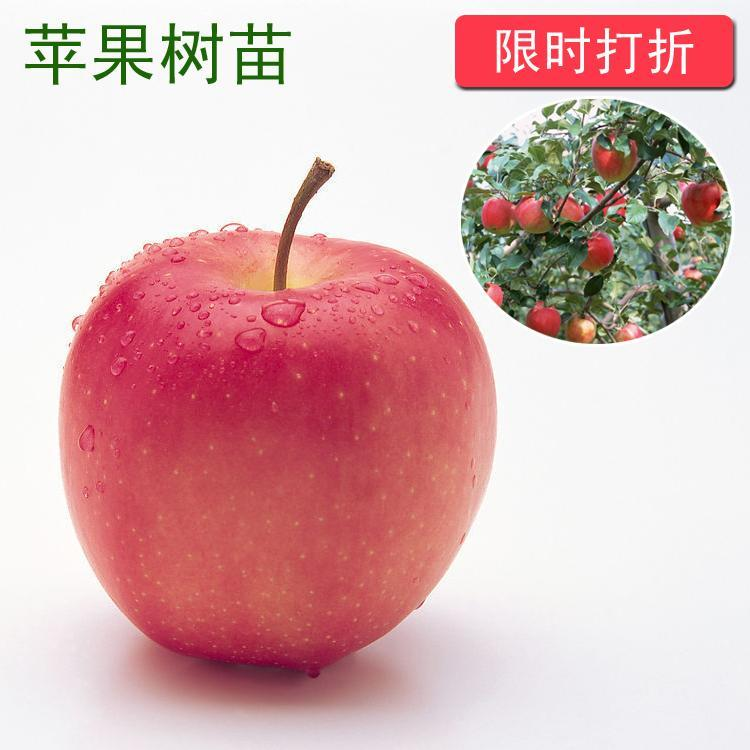apple: (60, 219, 497, 680)
